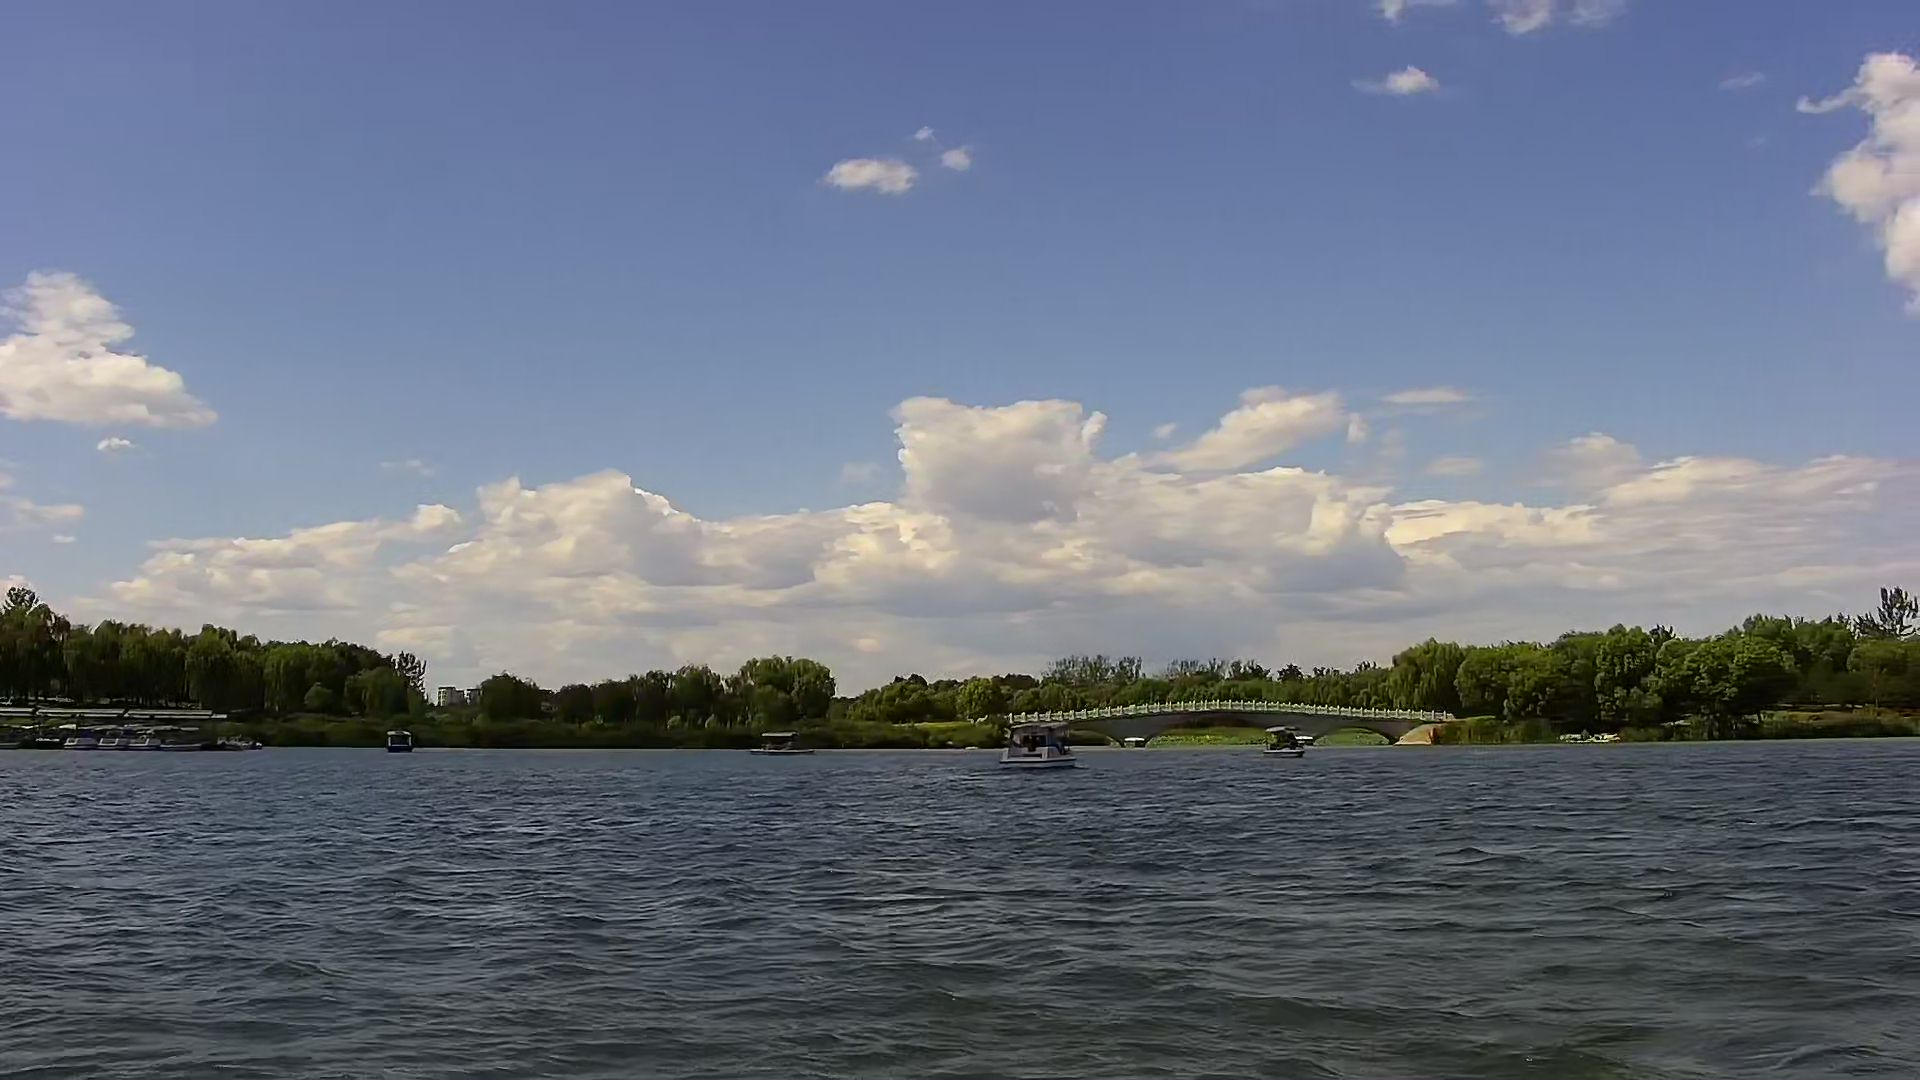boat: (982, 716, 1081, 781), (1257, 717, 1309, 767), (752, 723, 810, 758), (373, 720, 425, 760)
bridge: (992, 688, 1443, 748)
